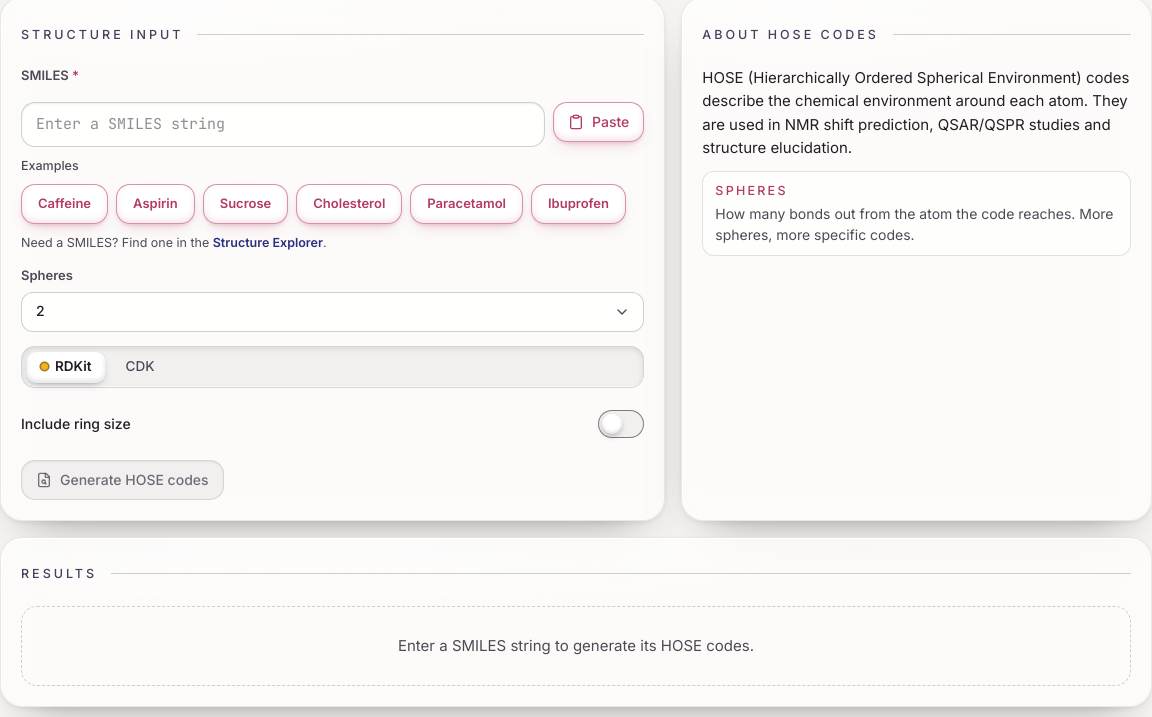
Scenario: HOSECodeView (bento) › lists one HOSE code per atom in the results panel
In the field labelled "SMILES *": (283, 124) [21,102,545,147], type "CCO"
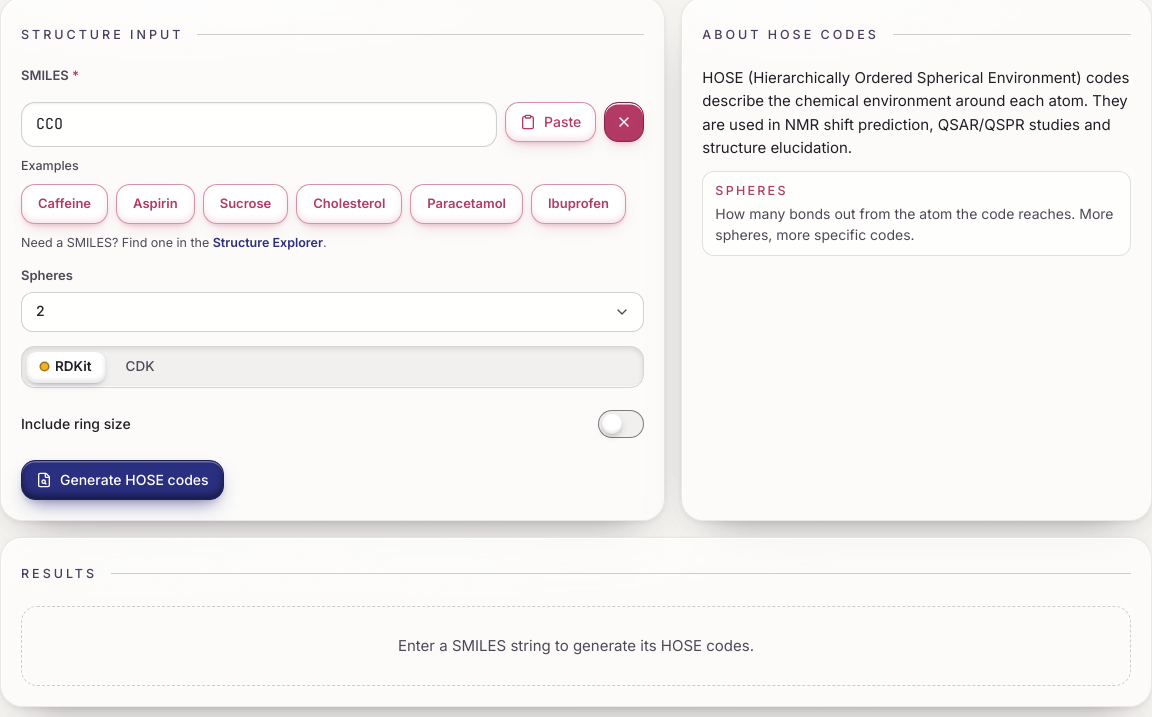
Click the button "Generate HOSE codes": click(122, 480) [21,460,224,500]
(page scrolled)
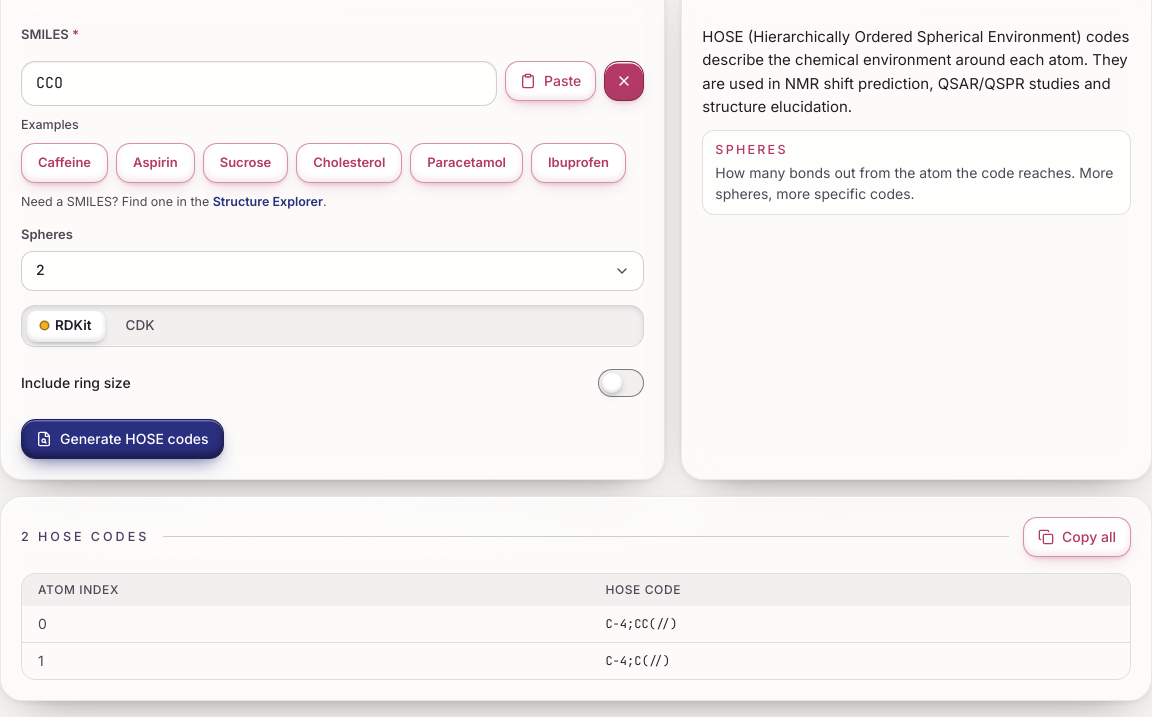
Result: the text "C-4;CC(//)" is shown at [589,606,1130,642]
Result: the text "C-4;C(//)" is shown at [589,642,1130,679]
